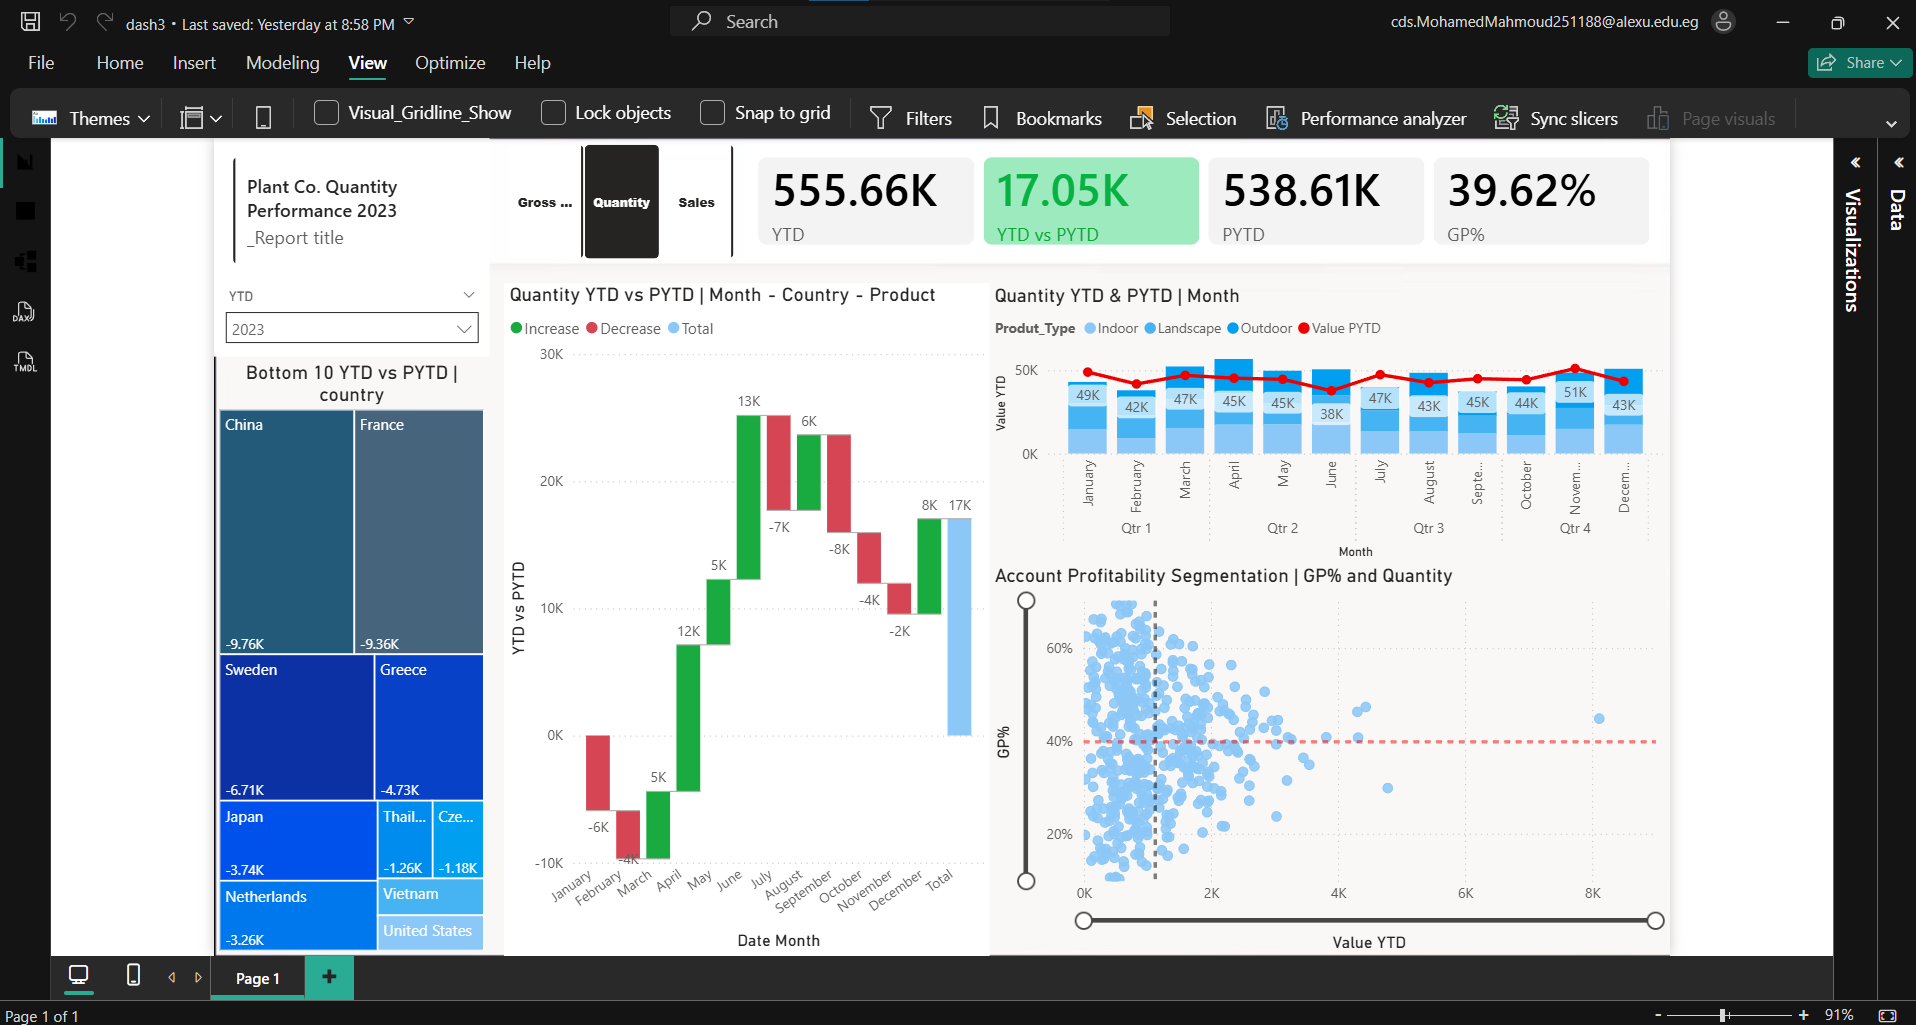

The page's visual inventory and layout, read from the dashboard file:
{"tool":"powerbi","page":{"name":"Page 1","canvas":[1280,720],"ordinal":0},"visuals":[{"type":"cardVisual","fields":{"Data":["_Measures.S_YTD","_Measures.YTD vs PYTD","_Measures.S_PYTD","_Measures.GP%"]},"box":[462.2,0,818,111.9],"z":0},{"type":"advancedSlicerVisual","fields":{"Values":["Slc_Values.Values"]},"box":[254.7,1.3,207.5,110.5],"z":1},{"type":"slicer","fields":{"Values":["Dim_Date.Date.Variation.Date Hierarchy.Year"]},"box":[0,128,242.6,64.7],"z":2},{"type":"treemap","title":"Bottom 10 YTD vs PYTD | country","fields":{"Values":["_Measures.YTD vs PYTD"],"Group":["Dim_Accounts.country"]},"box":[0,195.4,242.6,524.2],"z":3},{"type":"waterfallChart","fields":{"Y":["_Measures.YTD vs PYTD"],"Category":["Dim_Date.Date.Variation.Date Hierarchy.Month","Dim_Accounts.country","Dim_Product.Product_Name","Dim_Product.Produt_Type"]},"box":[254.7,128,427.2,591.6],"z":4},{"type":"lineStackedColumnComboChart","fields":{"Y":["_Measures.S_YTD"],"Y2":["_Measures.S_PYTD"],"Category":["Dim_Date.Date.Variation.Date Hierarchy.Quarter","Dim_Date.Date.Variation.Date Hierarchy.Month"],"Series":["Dim_Product.Produt_Type"]},"box":[681.5,128.3,598,246.9],"z":5},{"type":"scatterChart","fields":{"X":["_Measures.S_YTD"],"Y":["_Measures.GP%"],"Category":["Dim_Accounts.Account"]},"box":[682,375,598,345],"z":6},{"type":"cardVisual","fields":{"Data":["_Measures._Report title"]},"box":[0,0,242.6,128],"z":7}]}

Visuals, with their boxes on the page's 1280x720 design canvas (x1, y1, x2, y2). These are canvas units, not pixel positions in the 1916x1025 screenshot, which may show the page scaled, cropped or inside an application window:
cardVisual - _Measures.S_YTD x _Measures.YTD vs PYTD: (462,0,1280,112)
advancedSlicerVisual - Slc_Values.Values: (255,1,462,112)
slicer - Dim_Date.Date.Variation.Date Hierarchy.Year: (0,128,243,193)
"Bottom 10 YTD vs PYTD | country" treemap: (0,195,243,720)
waterfallChart - _Measures.YTD vs PYTD x Dim_Date.Date.Variation.Date Hierarchy.Month: (255,128,682,720)
lineStackedColumnComboChart - _Measures.S_YTD x _Measures.S_PYTD: (682,128,1280,375)
scatterChart - _Measures.S_YTD x _Measures.GP%: (682,375,1280,720)
cardVisual - _Measures._Report title: (0,0,243,128)
